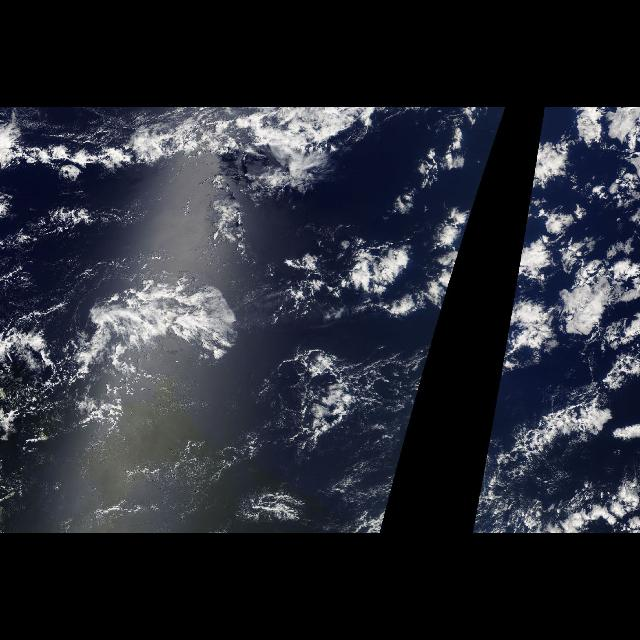Flower: (359, 144, 496, 372), (500, 144, 636, 372)
